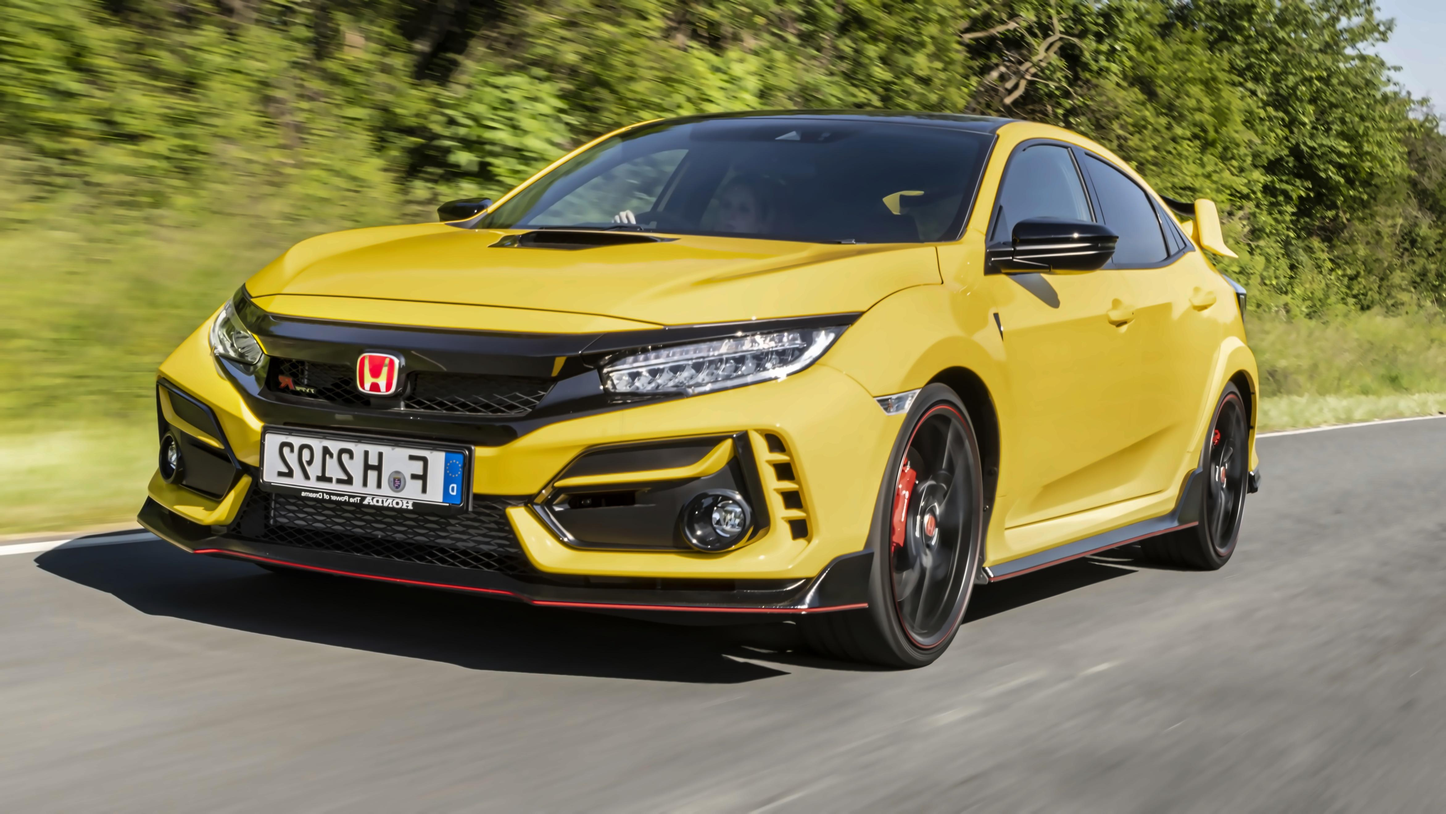Car hood: (224, 221, 944, 358)
Fender - -F-L-: (818, 235, 1009, 469)
Front bumper: (139, 329, 892, 632)
Headlight - -L-: (589, 312, 862, 406)
Headlight - -R-: (213, 284, 265, 400)
Passenger-s door - -F-L-: (972, 119, 1143, 589)
Passenger-s door - -R-L-: (1077, 121, 1238, 584)
Side bumper - -L-: (969, 471, 1213, 598)
